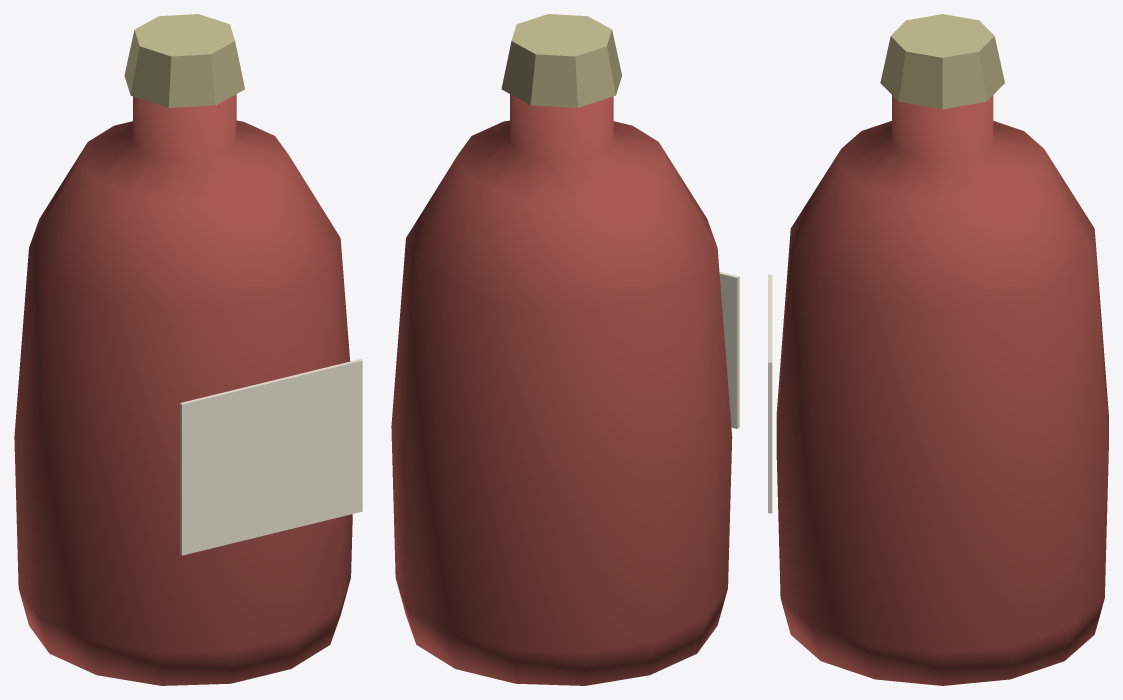
The model's file is camp_gas_bottle_a.glb.
3 views of the same model, side by side, from view 1: azimuth 30°, elevation 25°; view 2: azimuth 150°, elevation 25°; view 3: azimuth 270°, elevation 25° (orthographic).
Visible parts, largest first — view 1: body; view 2: body; view 3: body.
Part boxes in pixels (bbox=[...]): body: bbox=[14, 14, 362, 685]; body: bbox=[391, 14, 739, 685]; body: bbox=[768, 14, 1108, 685].
Size of the model in its own units: 0.164 by 0.31 by 0.1639.
